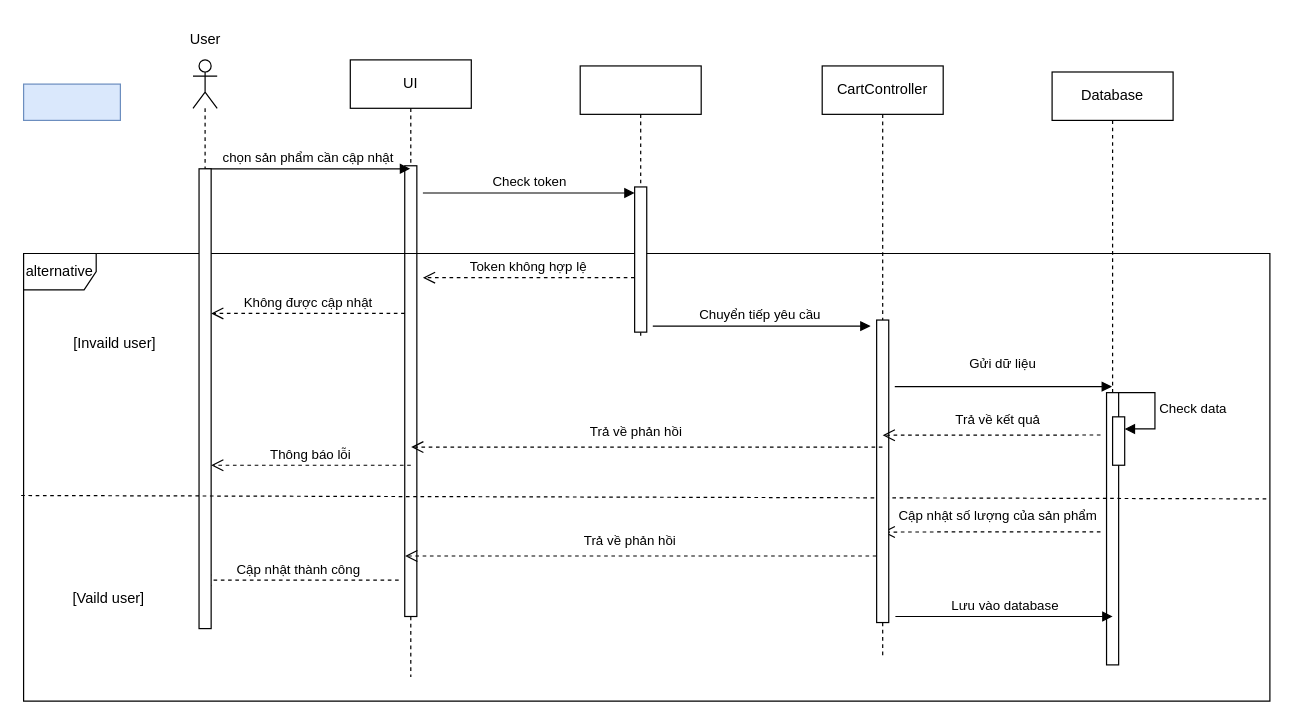
Some shapes in this 1291 by 722 pixel diagram are drawn without their labels. Here are the shapes that lost their labels. From the top down, the centre of each, then its label:
At (x=71, y=101): "UpdateCart".
At (x=640, y=201): "AuthMiddleware".
